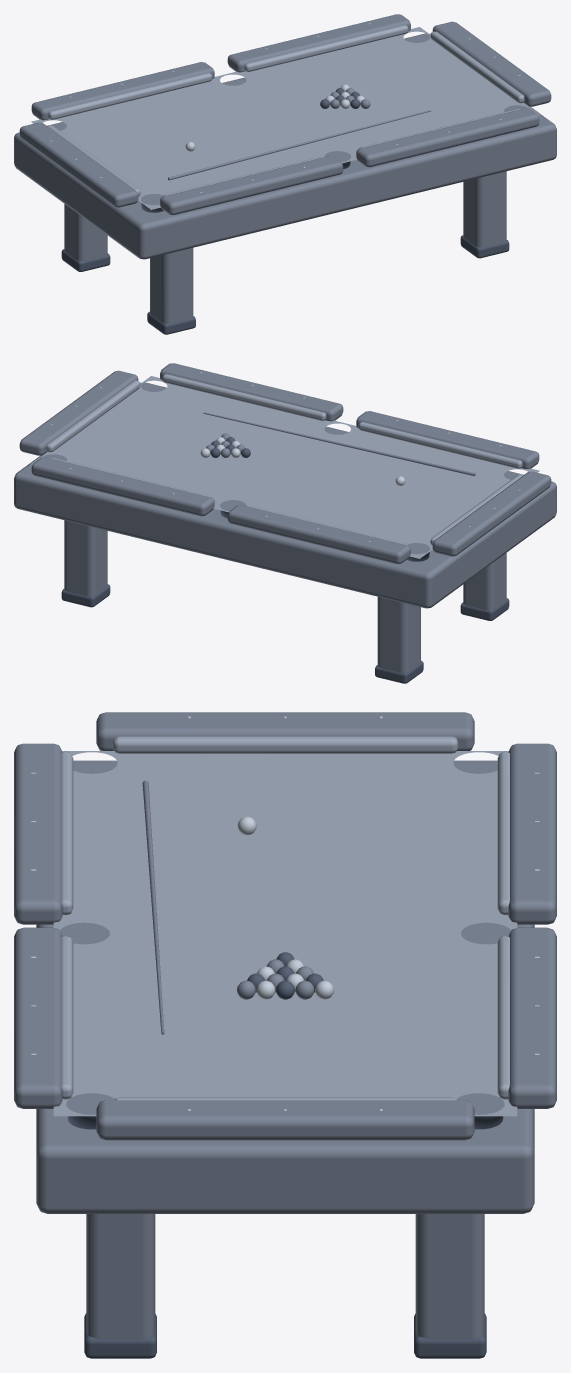
The model's file is pool-table.glb.
The picture shows the model from 3 angles, top to bottom: view 1: azimuth 30°, elevation 25°; view 2: azimuth 150°, elevation 25°; view 3: azimuth 270°, elevation 25°; orthographic projection. The views are drawn at different scales.
Parts seen in each view (by area): view 1: pool-table; view 2: pool-table; view 3: pool-table.
Boxes of the visible parts, <box> form: pool-table: <box>14,14,556,334</box>; pool-table: <box>14,363,556,683</box>; pool-table: <box>14,712,556,1358</box>.
Size of the model in its own units: 2.54 by 0.823 by 1.42.
